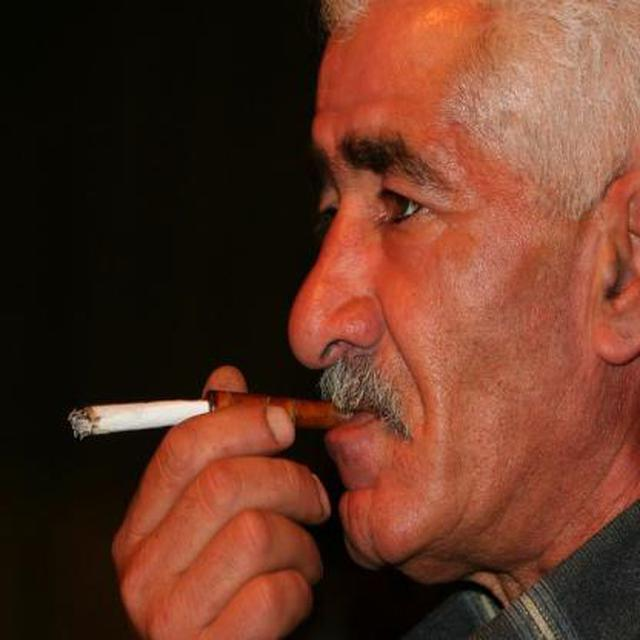smoking: (56, 383, 372, 443)
